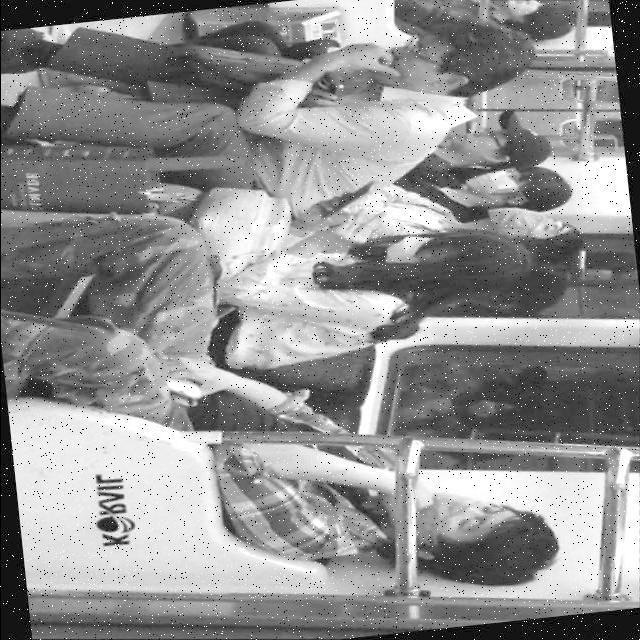no_apron: (314, 185, 378, 237), (161, 357, 235, 401), (336, 32, 396, 82)
